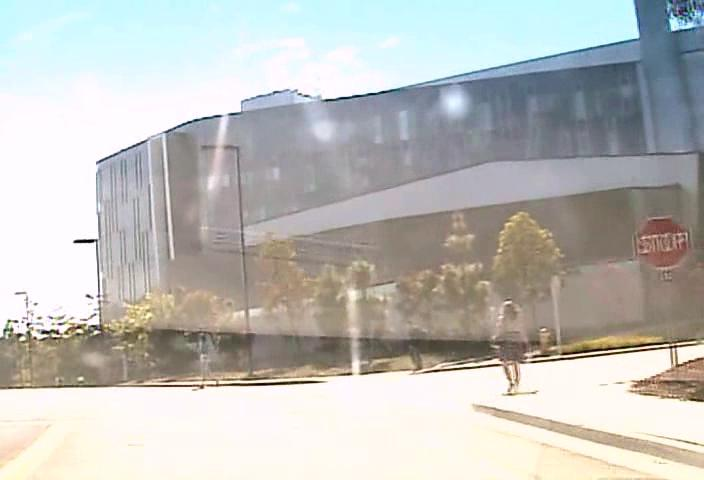stop: (633, 215, 689, 269)
